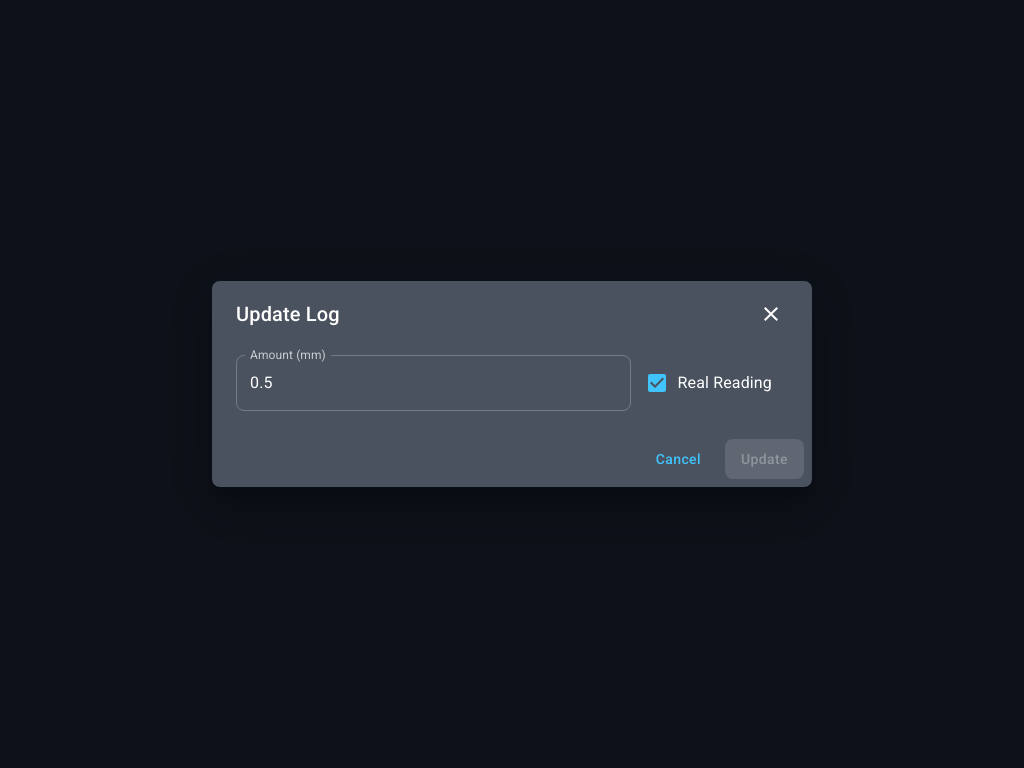
Test: UpdateLogModal › Form Submission › handles API error response
The image size is (1024, 768).
Clear the number field labelled "Amount (mm)" at point(433, 383), box [236,355,630,411]
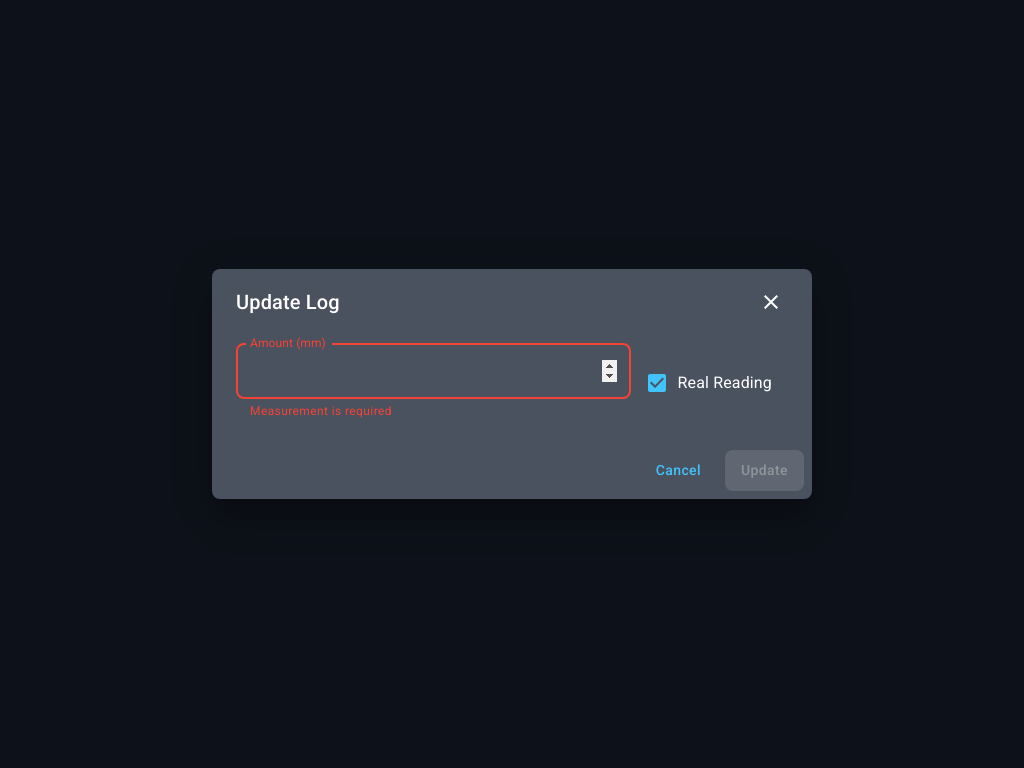
Type "25" into the number field labelled "Amount (mm)" at point(433, 371), box [236,343,630,399]
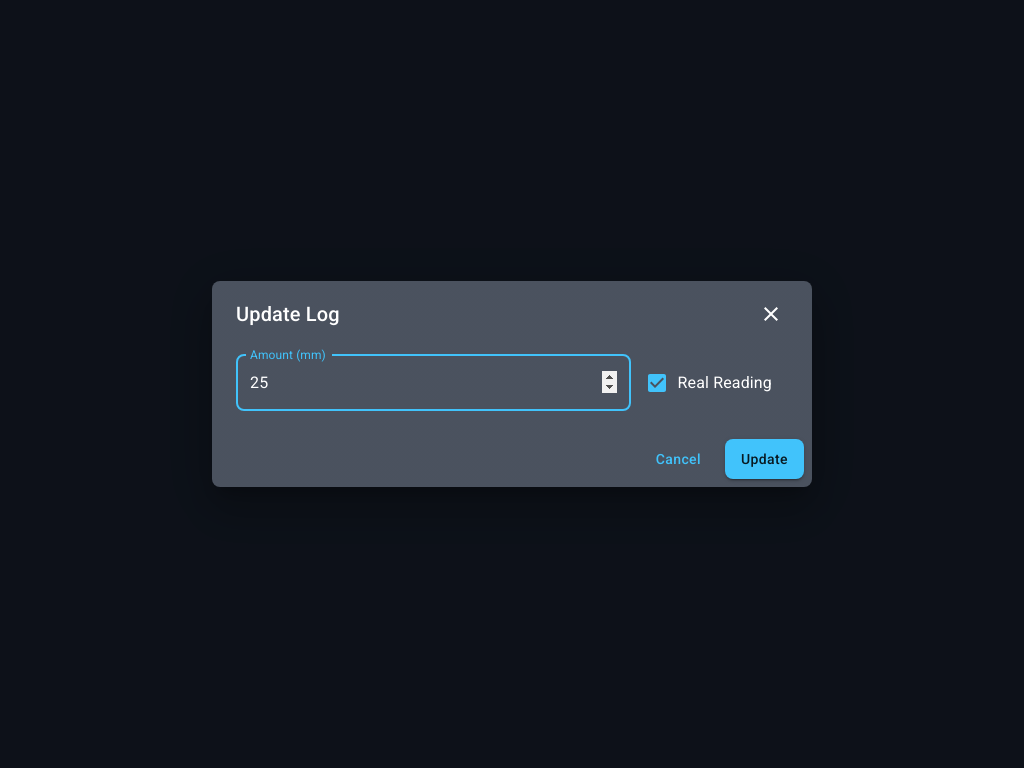
Click the button "Update" at point(764, 459), box [725,439,804,479]
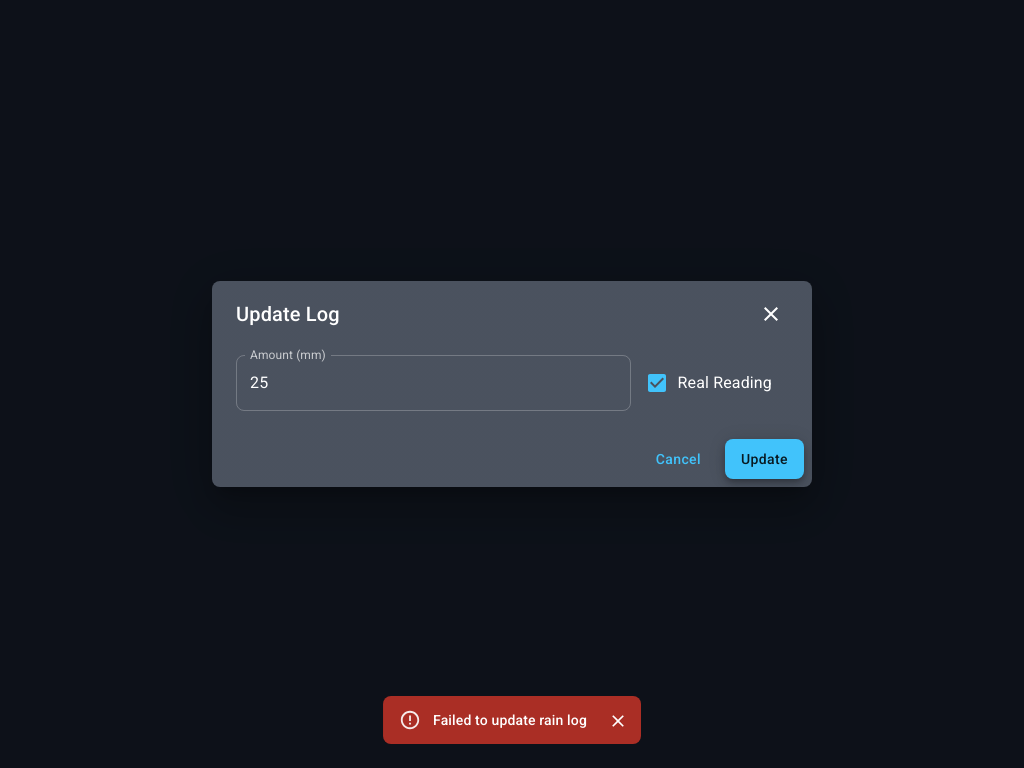
Result: the text "Failed to update rain log" is shown at [433,712,587,728]
